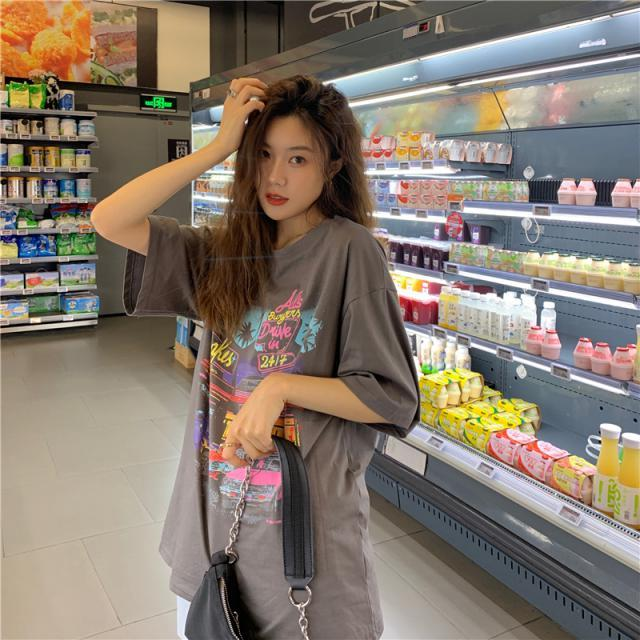Shirt: (119, 202, 430, 640)
